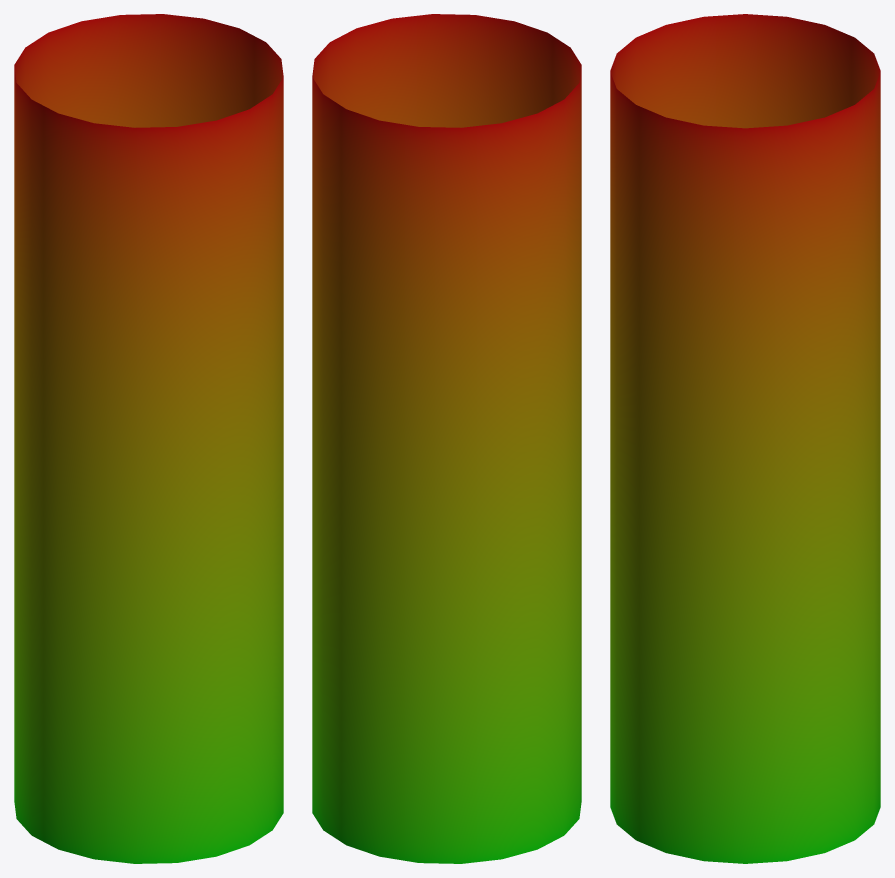
Rendered from LightVolume.fbx.
The picture shows the model from 3 angles, left to right: view 1: azimuth 30°, elevation 25°; view 2: azimuth 150°, elevation 25°; view 3: azimuth 270°, elevation 25°; orthographic projection.
Visible parts, largest first — view 1: Cylinder.006; view 2: Cylinder.006; view 3: Cylinder.006.
Part boxes in pixels (x1=…): Cylinder.006: x1=14, y1=14, x2=283, y2=863; Cylinder.006: x1=312, y1=14, x2=581, y2=863; Cylinder.006: x1=610, y1=14, x2=880, y2=863.
Bounding box in the file's own units: 100 × 300 × 100.
